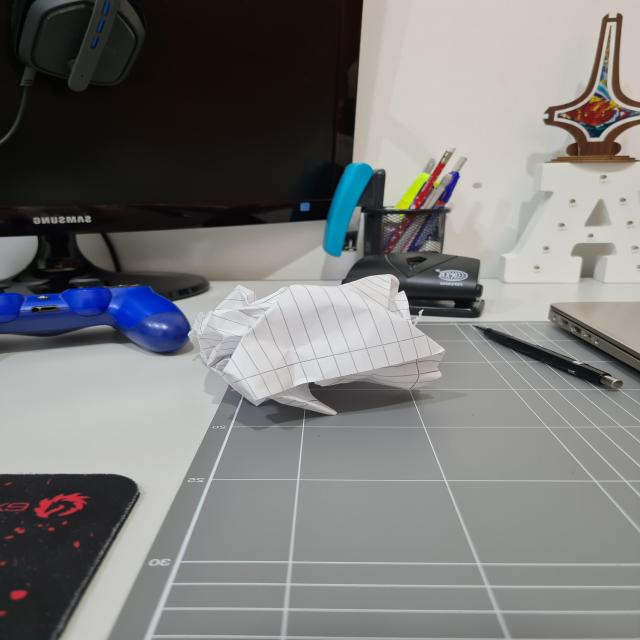paper: (187, 274, 432, 416)
